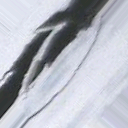crackTip: (1, 1, 118, 128)
